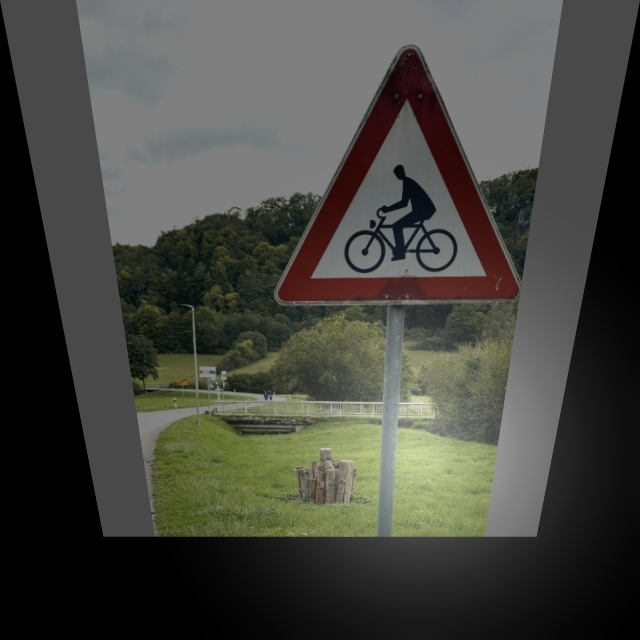Cycle_Crossing: (265, 46, 547, 301)
